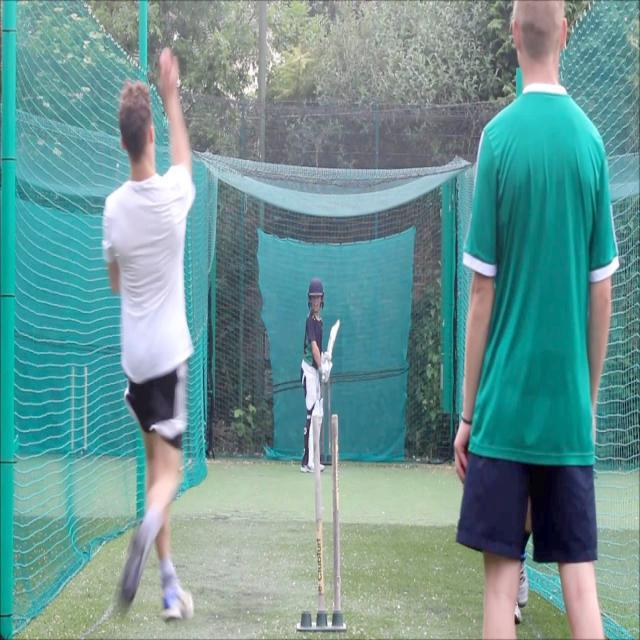bat: (325, 319, 346, 365)
